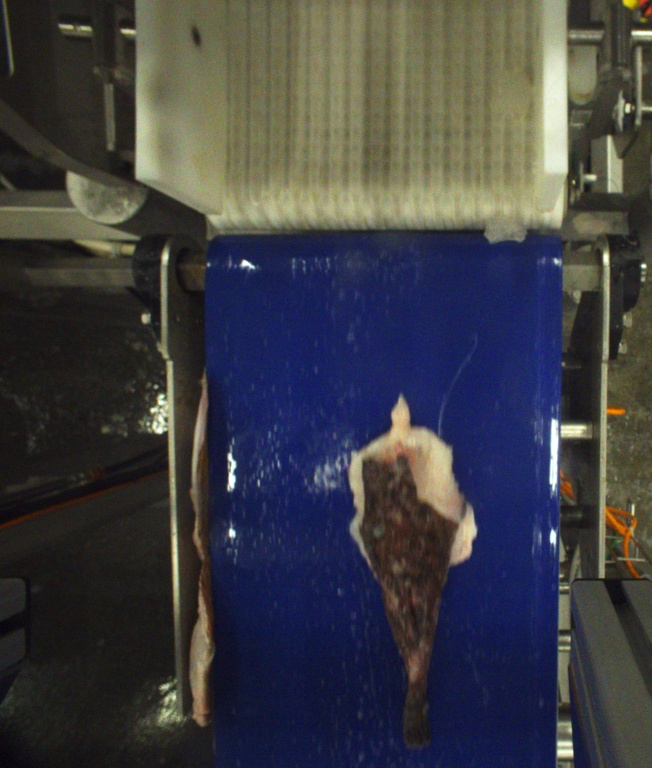ANF: (345, 398, 478, 753)
